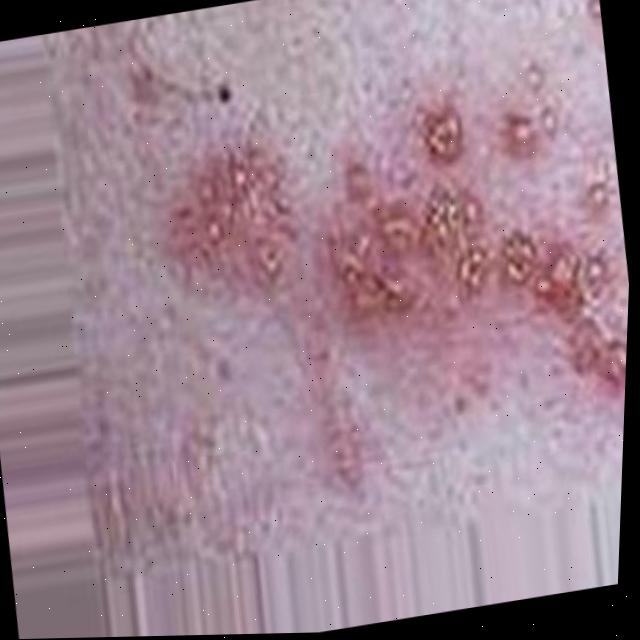Shingles: (147, 45, 638, 467), (570, 0, 605, 44)
